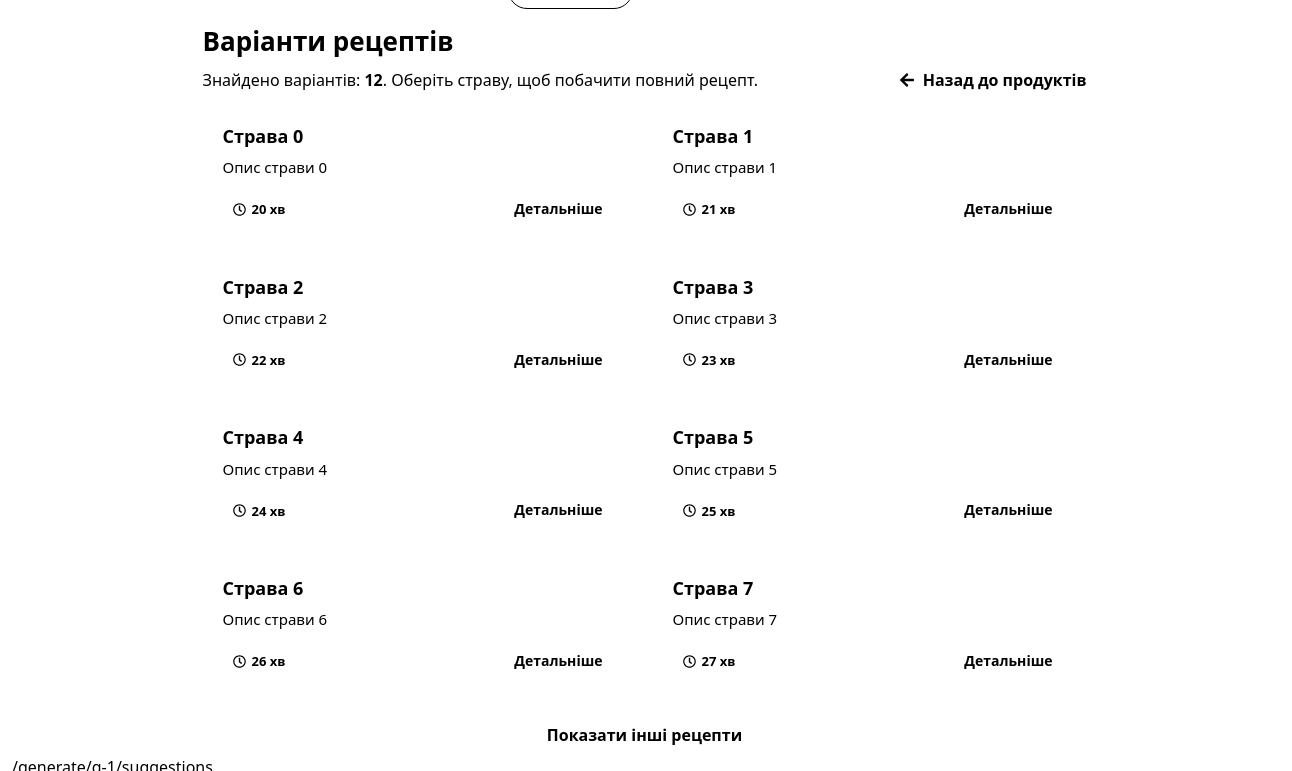
Test: SuggestionsPage: show more › retries failed load
expect the heading "Страва 0" is shown: met, box x1=222 y1=124 x2=303 y2=148
Click the button "Показати інші рецепти": [644, 735] box x1=519 y1=714 x2=770 y2=756
(page scrolled)
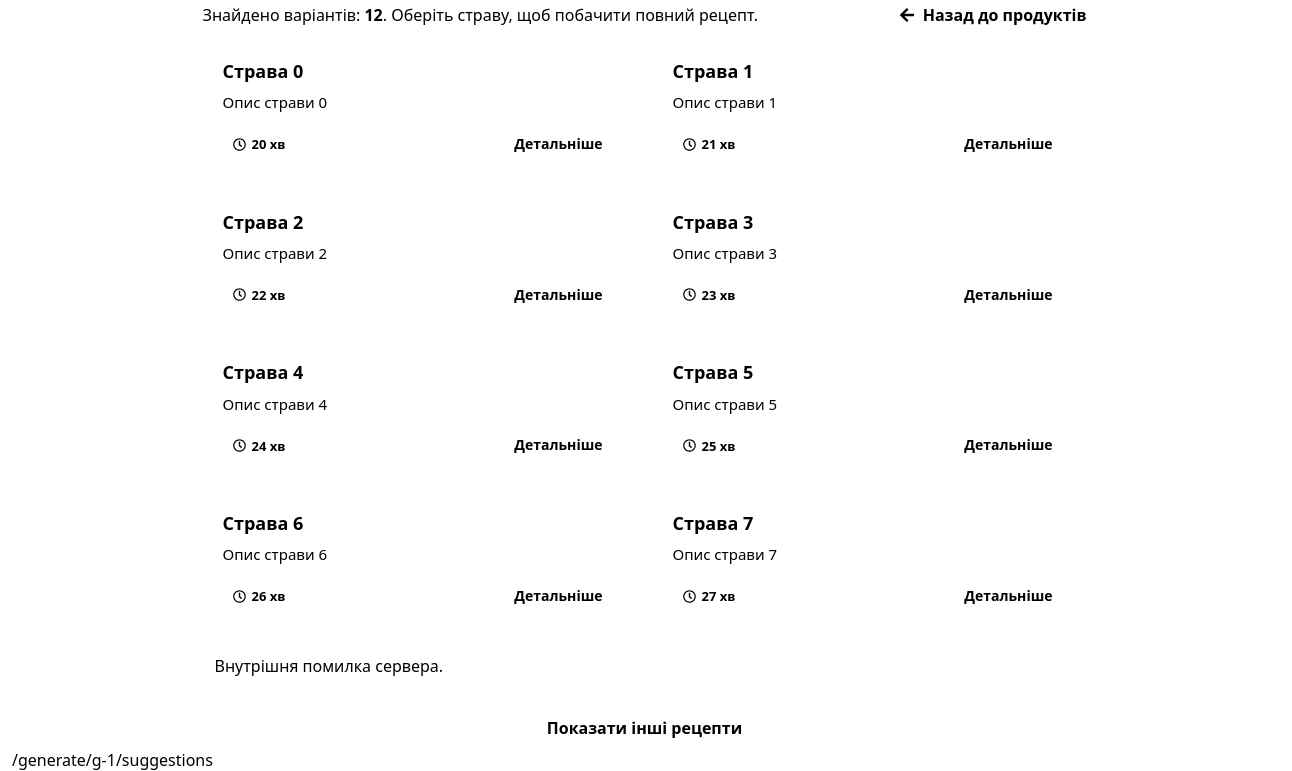
expect the message reads "Внутрішня помилка сервера.": met, box x1=214 y1=655 x2=443 y2=677
Click the button "Показати інші рецепти": [644, 728] box x1=519 y1=707 x2=770 y2=749
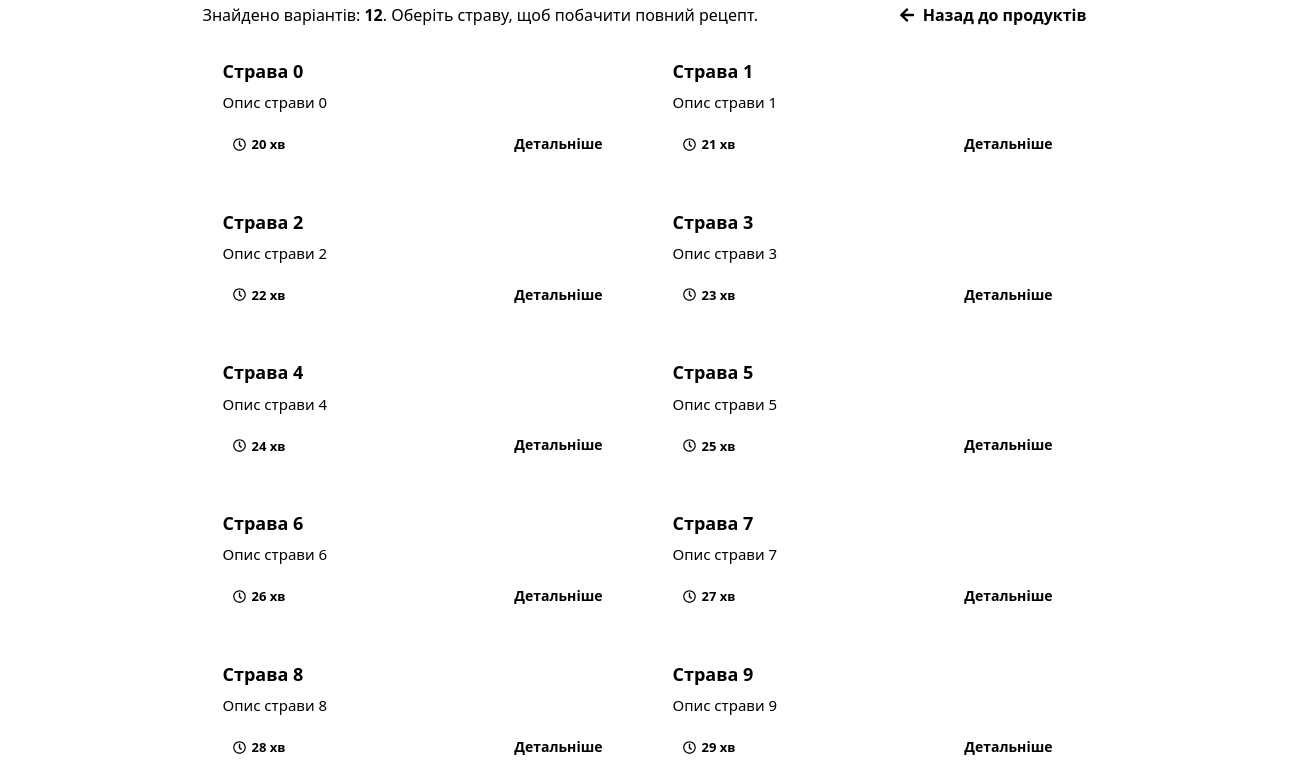
expect the message "Внутрішня помилка сервера." is gone: met
